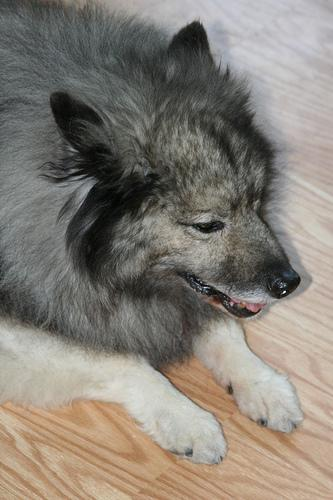dog-keeshond: (48, 19, 300, 317)
